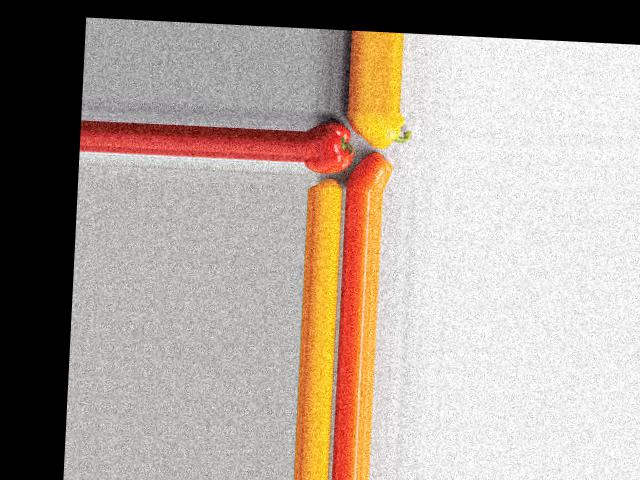bell_pepper: (304, 118, 356, 175)
